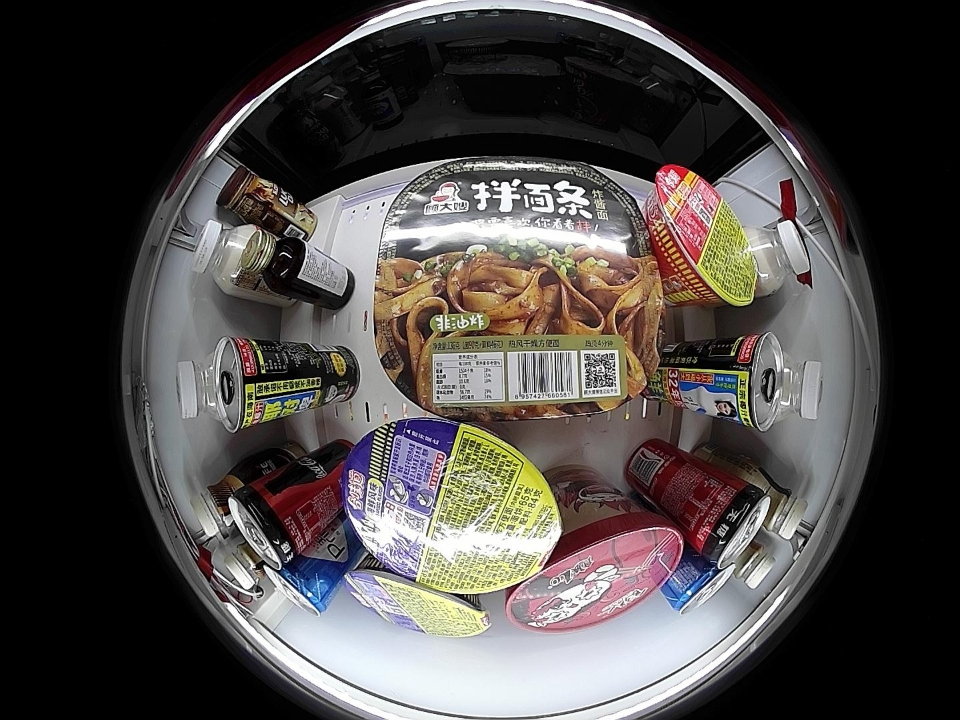gudasao: (370, 158, 664, 422)
heweidao: (342, 417, 562, 594), (344, 561, 489, 639)
heweidao3: (647, 164, 755, 308)
kafei: (749, 470, 808, 539), (190, 469, 246, 539), (777, 351, 824, 424), (224, 539, 269, 591), (731, 538, 776, 589)
libaojian: (240, 230, 304, 292)
lingdukele: (687, 476, 772, 570), (228, 475, 309, 572)
lujikafei: (216, 165, 276, 223)
qingdaowangzi-2: (263, 556, 339, 617), (664, 556, 735, 615)
suanlafen: (505, 512, 682, 635)
weiweidounai: (743, 218, 812, 297), (191, 220, 256, 294), (177, 348, 222, 423)
yezhi: (720, 331, 784, 432), (212, 334, 272, 433)
